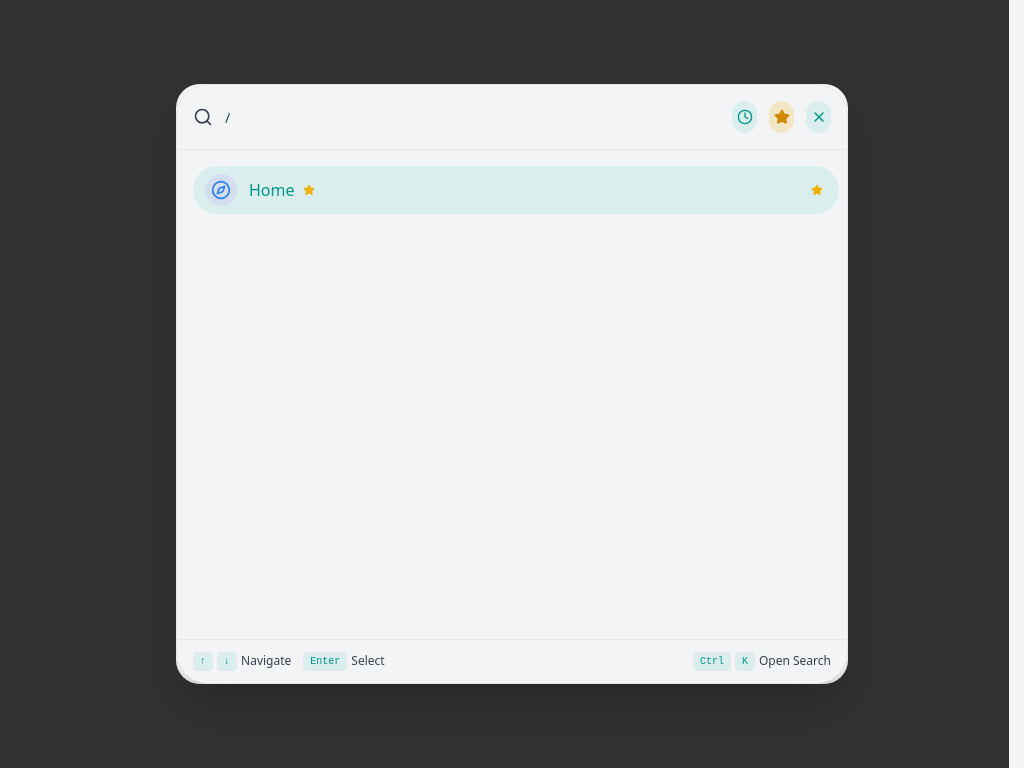
Test: SearchDialog › displays empty state when no results found
Type "nonexistent page that does not exist" into the dropdown with placeholder "Search favorites..." at (473, 117), box [225,97,720,137]
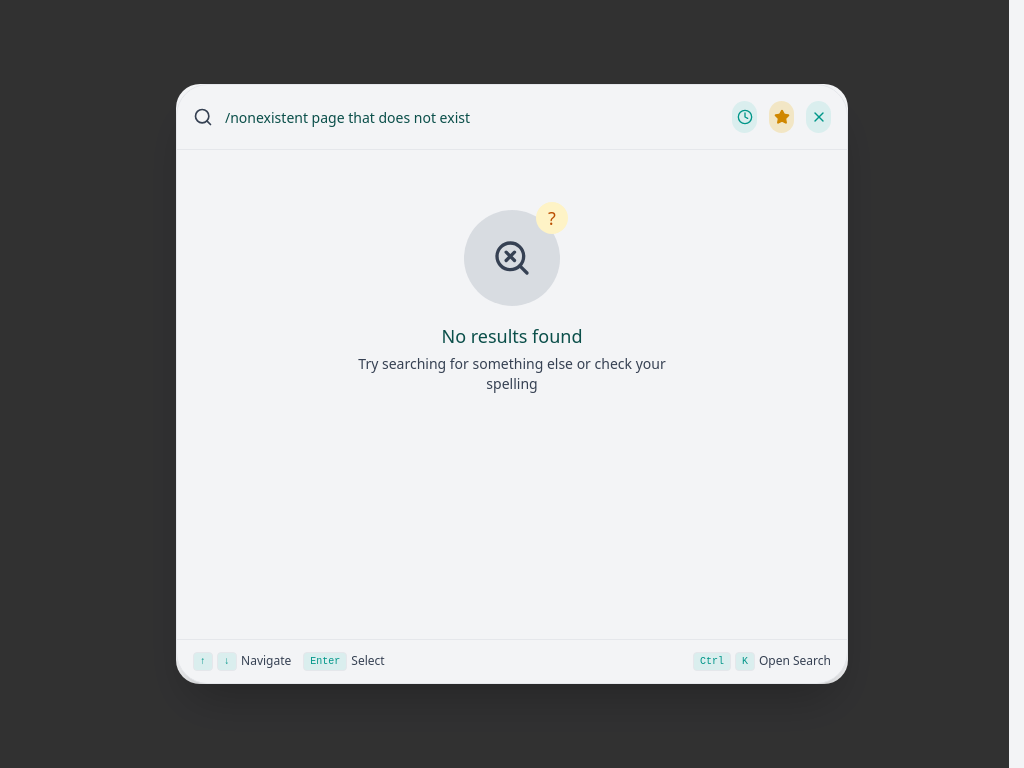
Check: the option "Home" is gone
